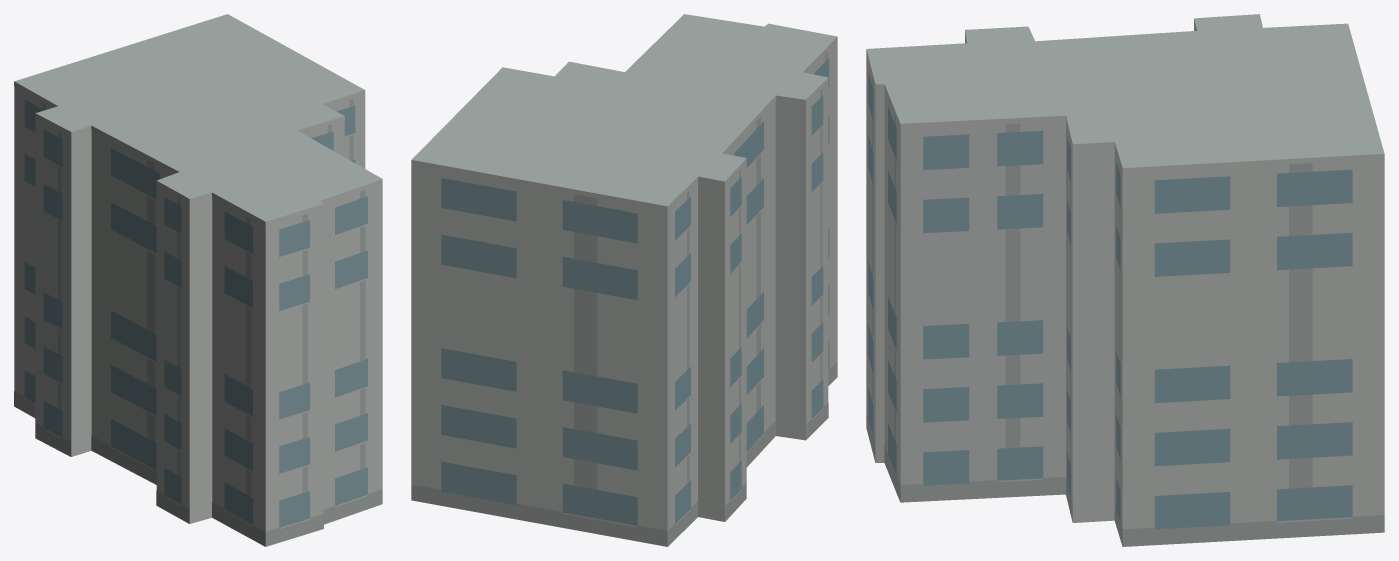
Rendered from survey-upis-32940194.glb.
3 views of the same model, side by side, from view 1: azimuth 30°, elevation 25°; view 2: azimuth 150°, elevation 25°; view 3: azimuth 270°, elevation 25° (orthographic). The views are drawn at different scales.
Visible parts, largest first — view 1: survey-upis-32940194.tmp; view 2: survey-upis-32940194.tmp; view 3: survey-upis-32940194.tmp.
Part boxes in pixels (left/top/right/bottom): survey-upis-32940194.tmp: left=14, top=14, right=382, bottom=546; survey-upis-32940194.tmp: left=411, top=14, right=837, bottom=546; survey-upis-32940194.tmp: left=866, top=14, right=1384, bottom=546.
Size of the model in its own units: 14.79 by 16.94 by 21.01.
